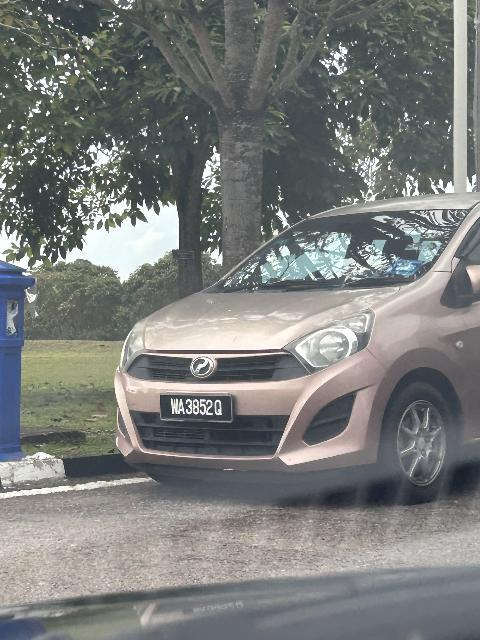License_Plate: (158, 393, 238, 428)
WA3852Q: (158, 393, 238, 428)
car: (106, 192, 472, 506)
